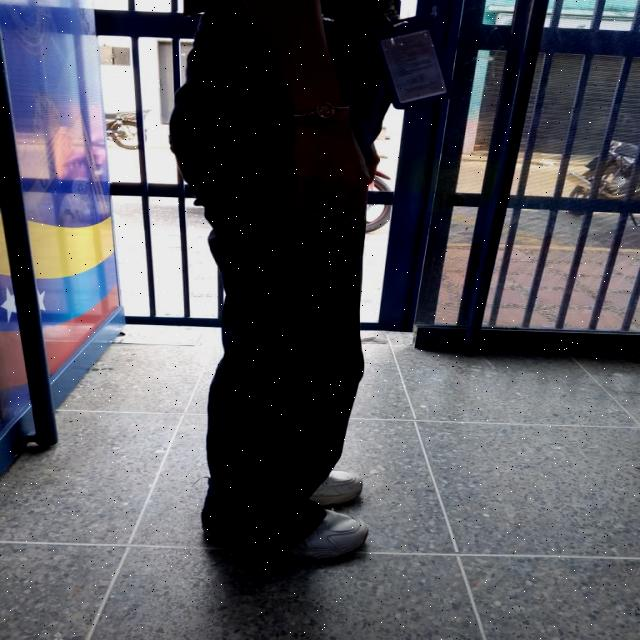carnet: (378, 27, 448, 104)
